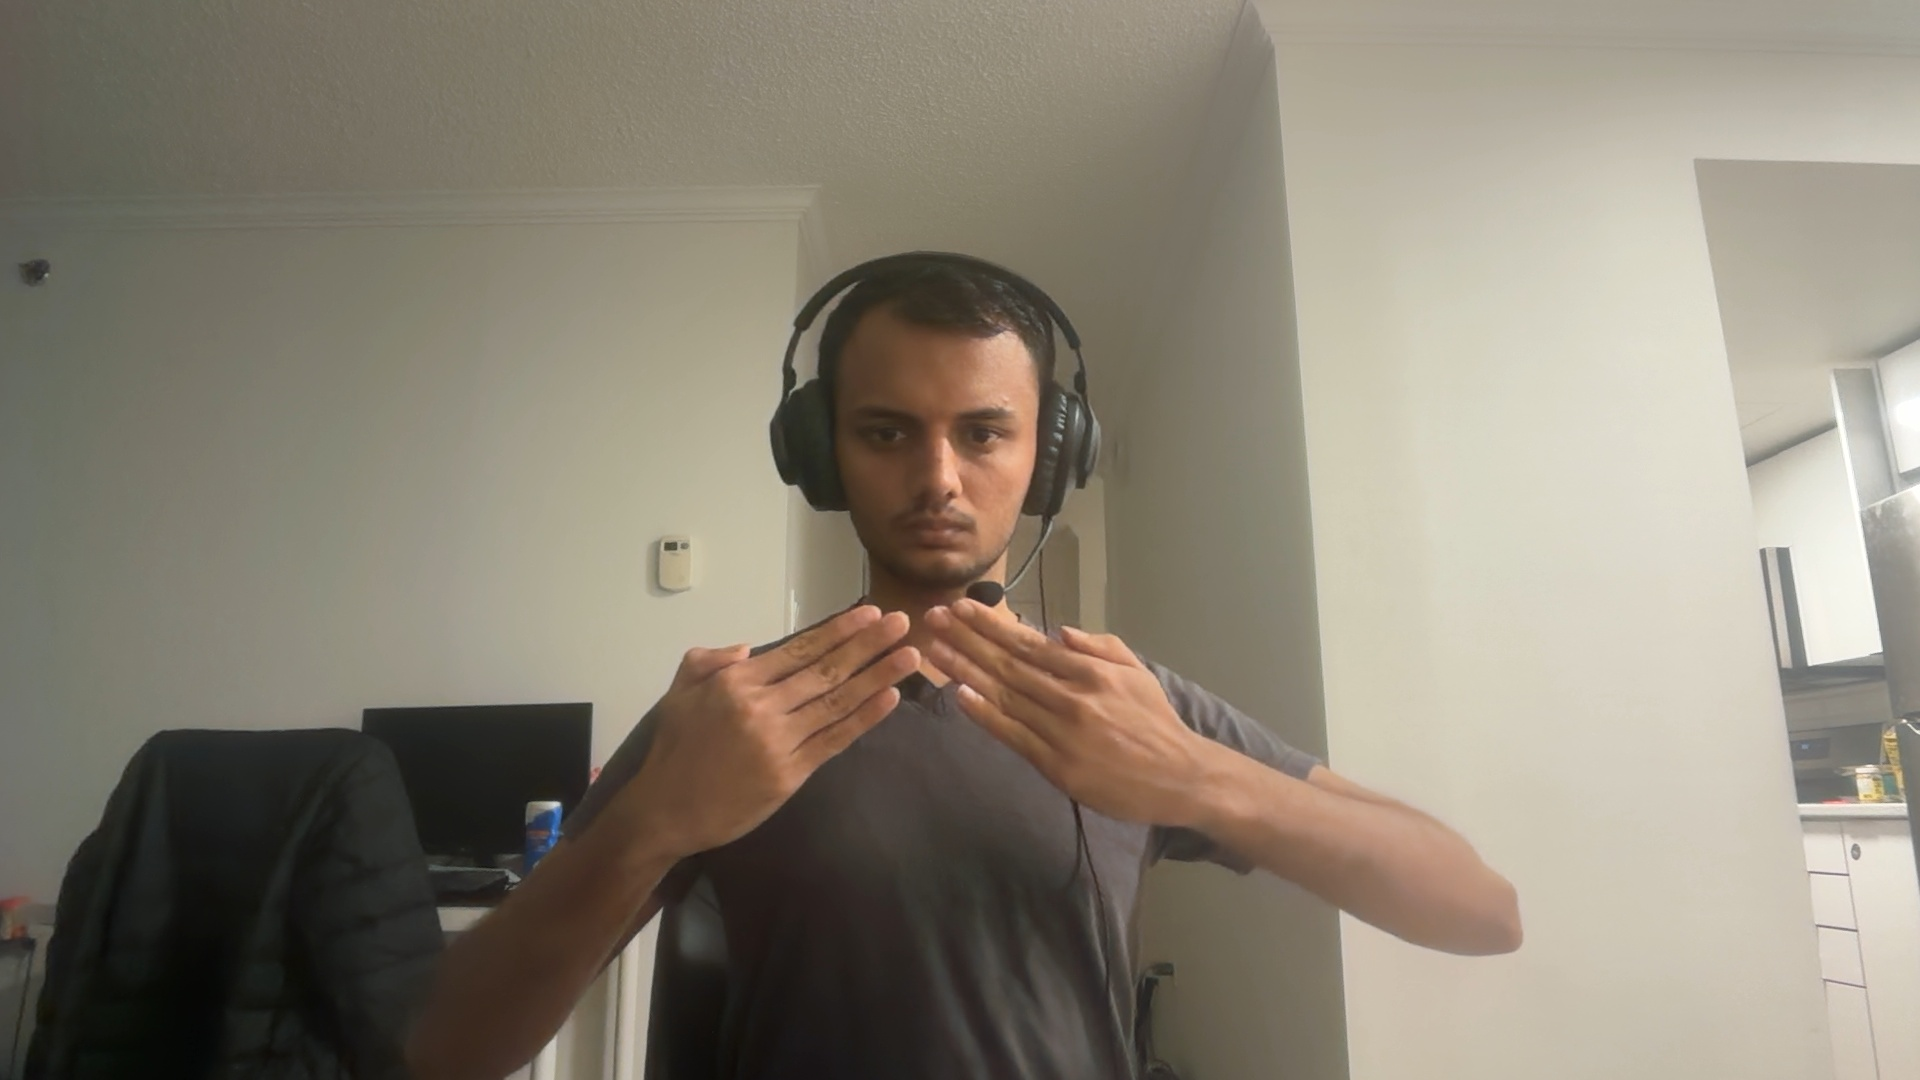thankyou: (644, 596, 1203, 848)
